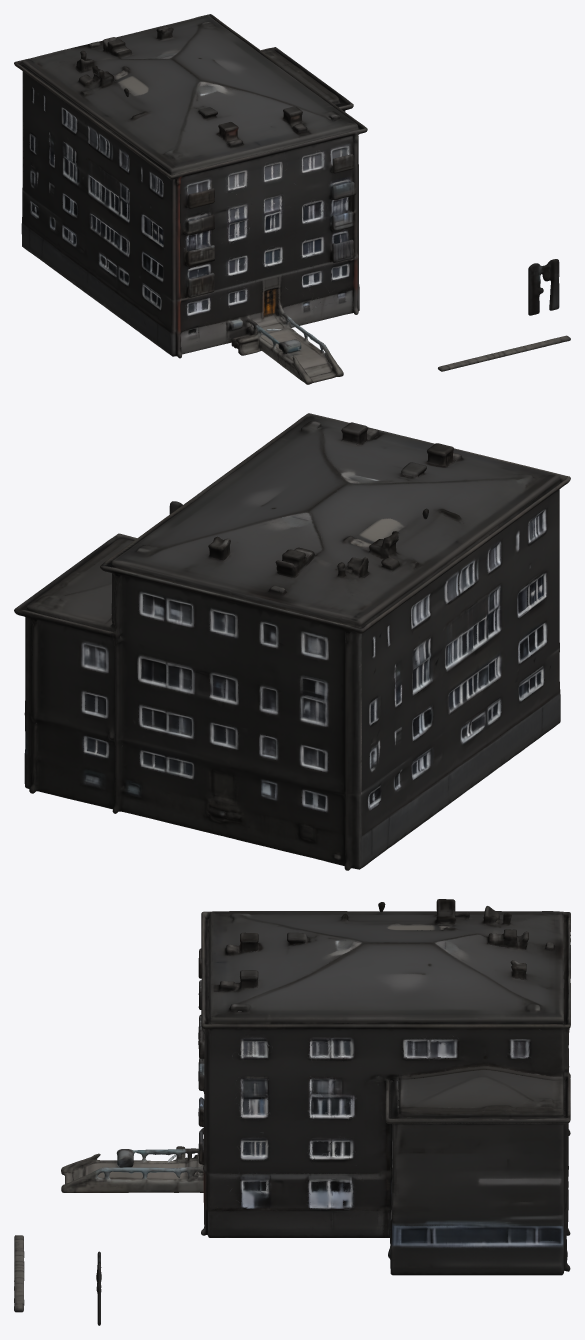
File: Budova.glb
The picture shows the model from 3 angles, top to bottom: view 1: azimuth 30°, elevation 25°; view 2: azimuth 150°, elevation 25°; view 3: azimuth 270°, elevation 25°; orthographic projection. The views are drawn at different scales.
Visible parts, largest first — view 1: world; view 2: world; view 3: world.
Part boxes in pixels (x1,y1,x2,y2): world: (14,14,570,384); world: (14,413,570,870); world: (14,899,570,1325).
Size of the model in its own units: 0.8426 by 0.4909 by 1.
Materials: 1 (1 with a texture image).
